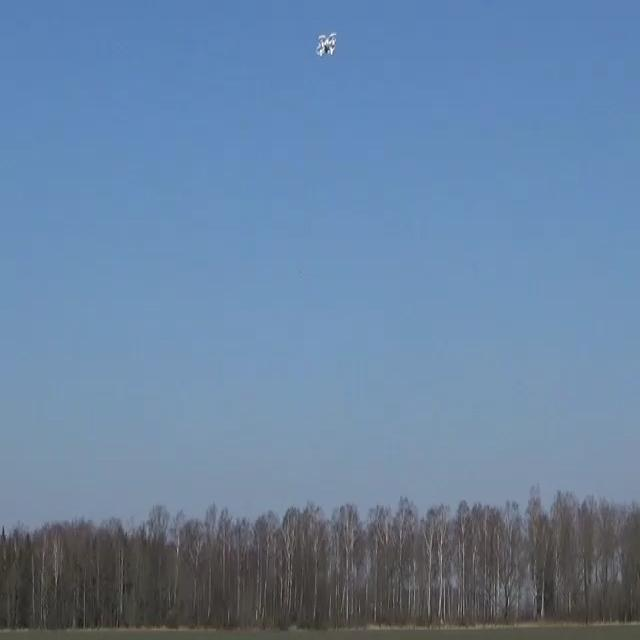drone: (316, 32, 337, 58)
